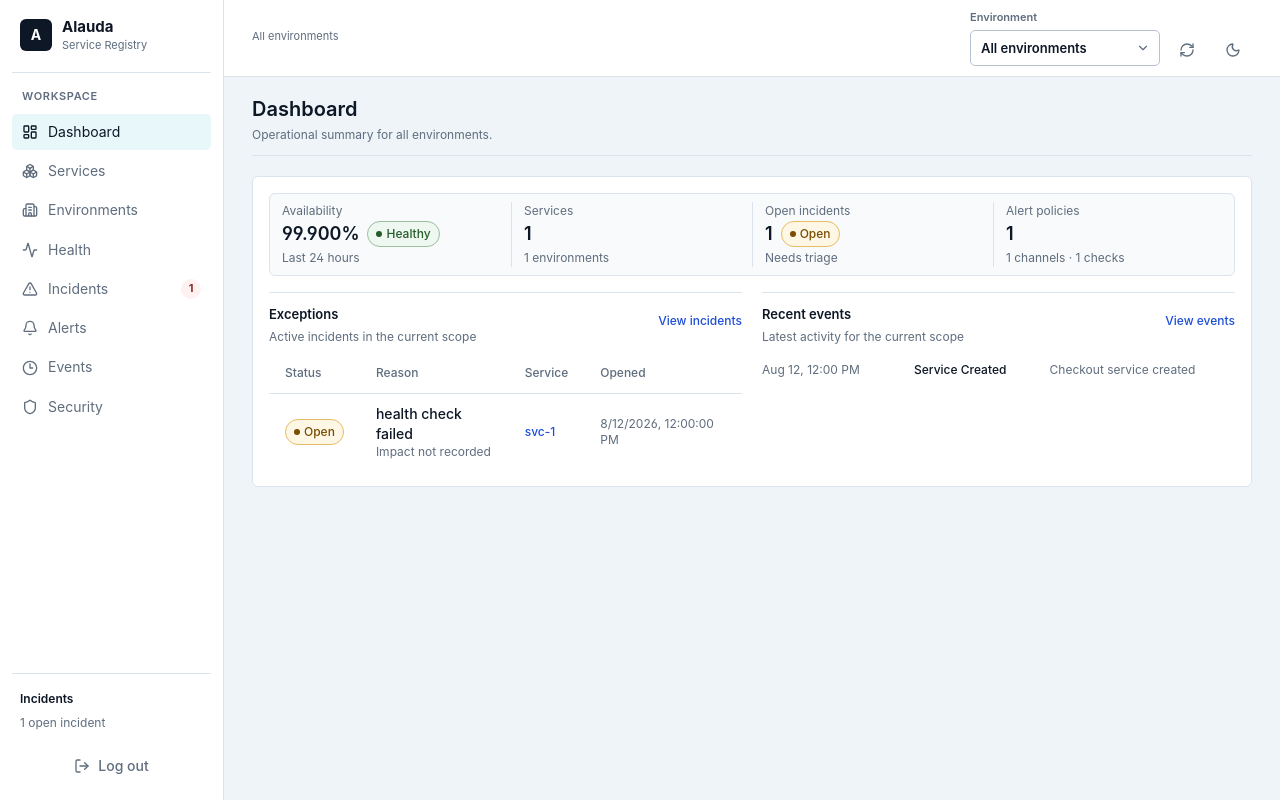
Test case: App › navigates incident and event workflows with mocked registry data
This screenshot has width=1280, height=800.
Expected: the text "Checkout service created" is shown, top-left (1050, 362), bottom-right (1195, 377)
Step 1. Click the button "Incidents 1" → (112, 289), box top-left (12, 271), bottom-right (211, 307)
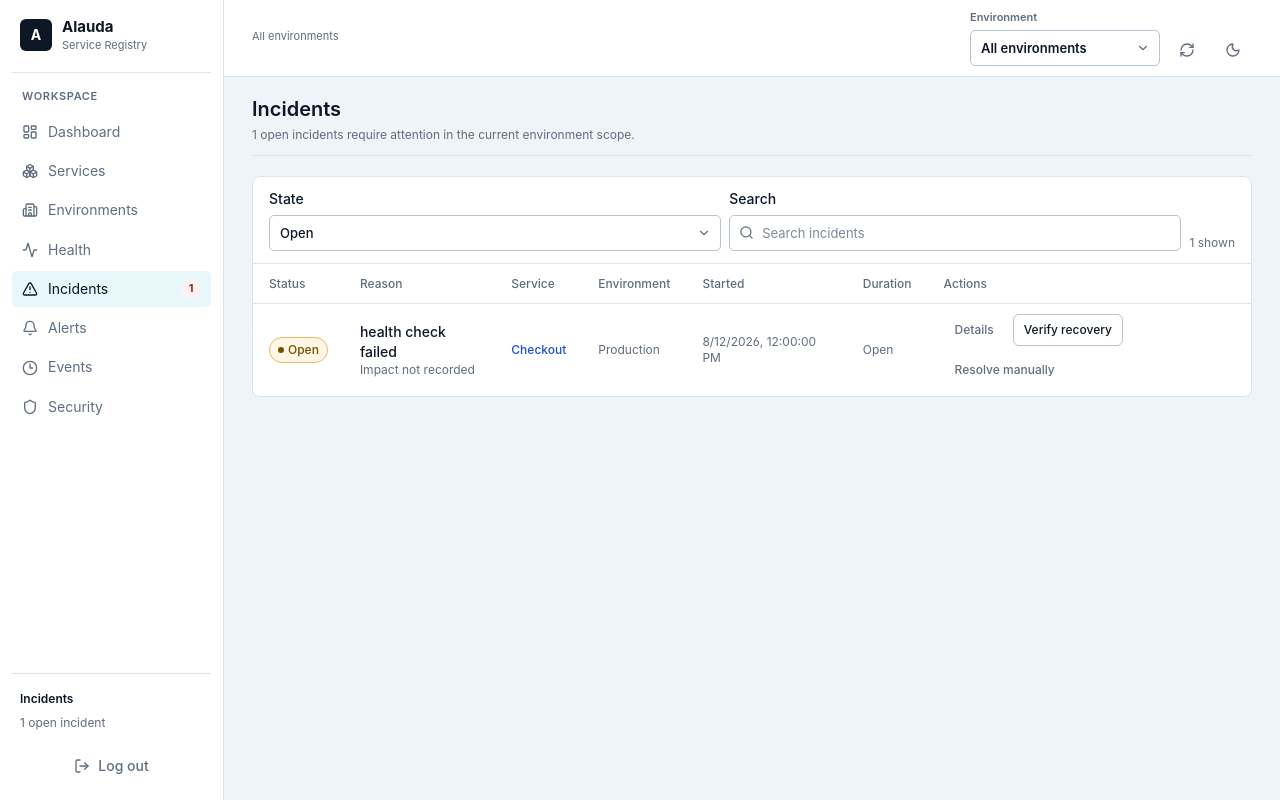
Expected: the text "health check failed" is shown, top-left (360, 323), bottom-right (446, 360)
Step 2. Select "Open" in the dropdown labelled "State" → (495, 233), box top-left (269, 215), bottom-right (721, 251)
Step 3. Click the button "Verify recovery" → (1068, 330), box top-left (1013, 314), bottom-right (1123, 346)
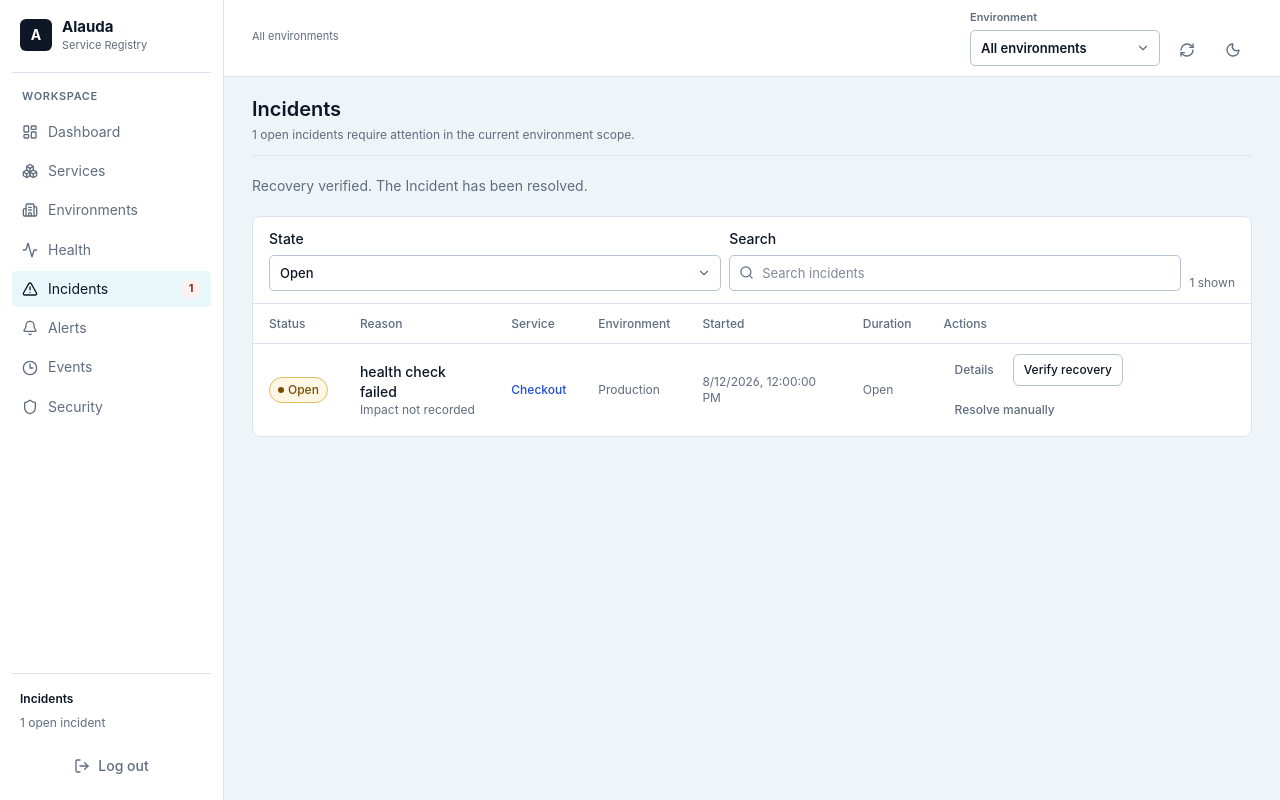
Expected: the text "Recovery verified. The Incident has been resolved." is shown, top-left (252, 177), bottom-right (588, 194)
Step 4. Click the button "Details" → (974, 370), box top-left (944, 354), bottom-right (1005, 386)
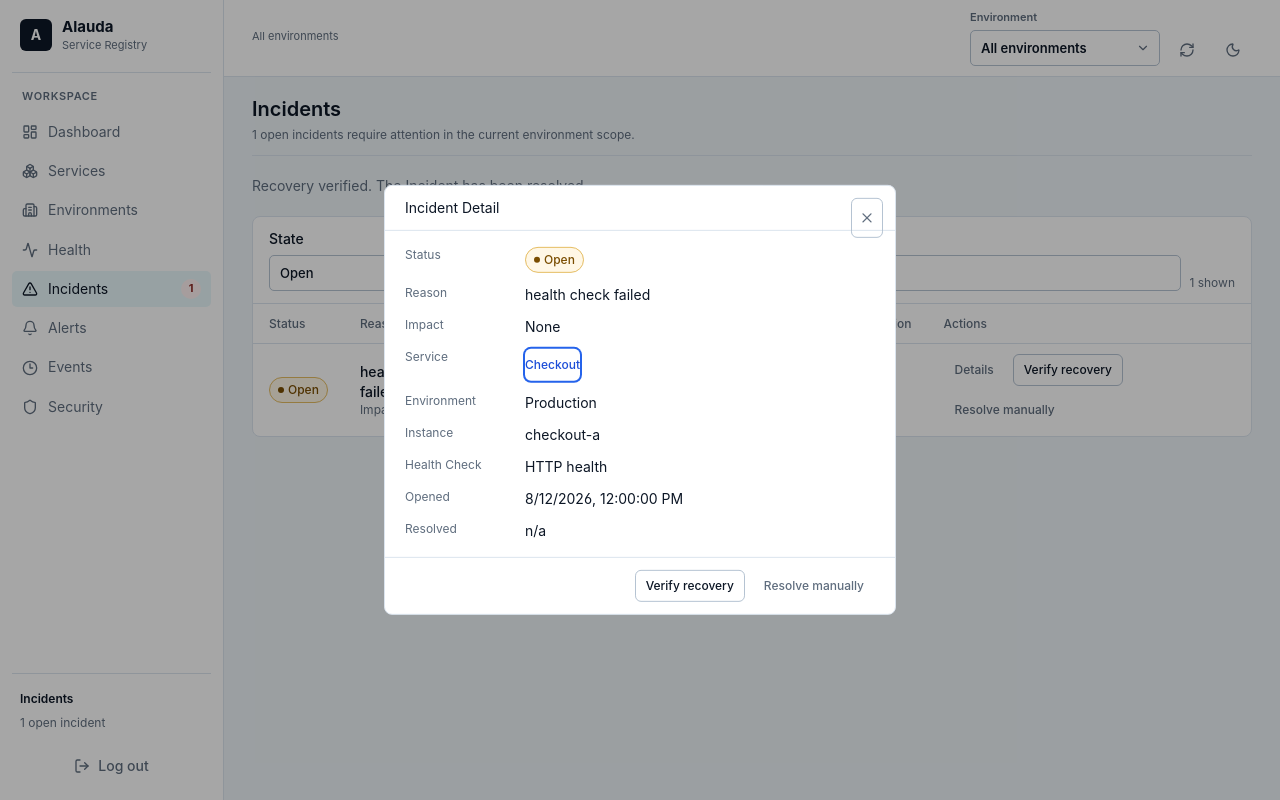
Expected: the dialog is shown, top-left (384, 185), bottom-right (896, 615)
Expected: the heading "Incident Detail" is shown, top-left (405, 199), bottom-right (500, 216)
Step 5. Click the button named "Close dialog" → (867, 218), box top-left (851, 198), bottom-right (883, 238)
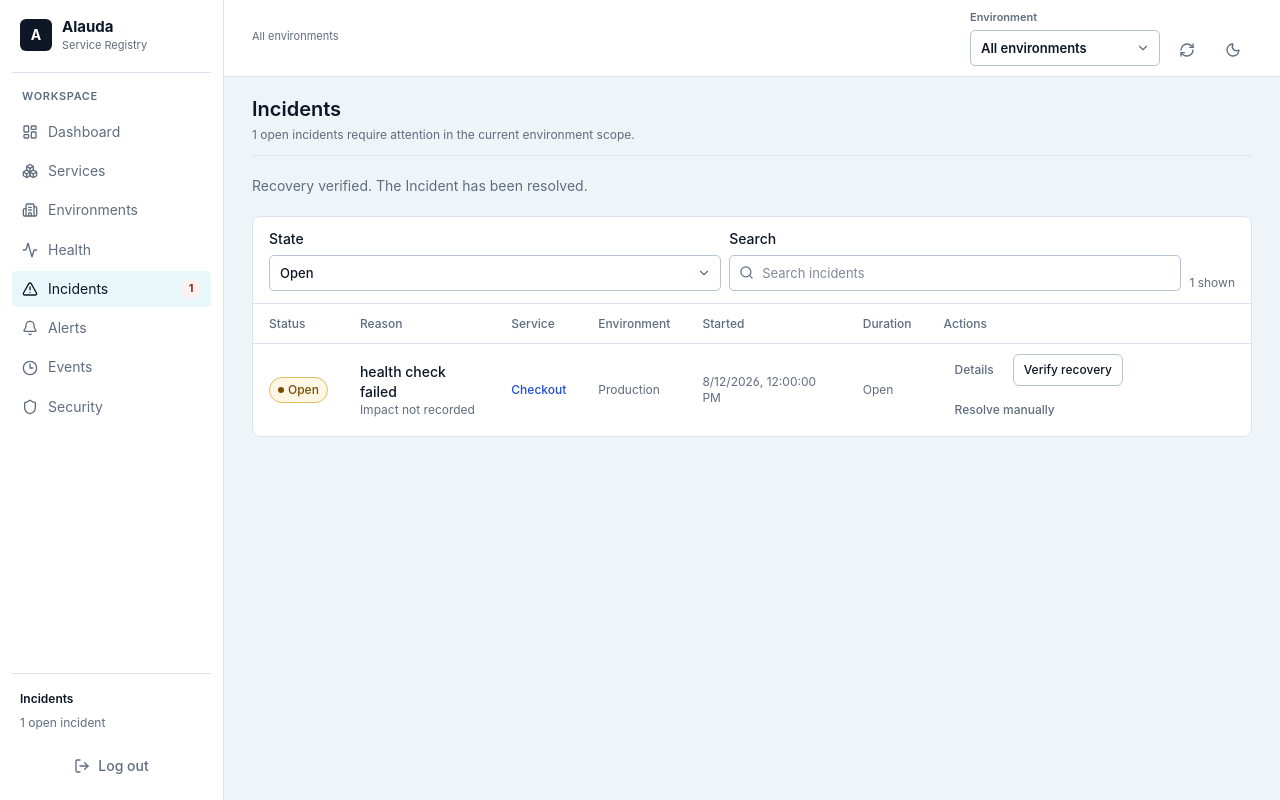
Step 6. Click the button "Events" → (112, 368), box top-left (12, 349), bottom-right (211, 386)
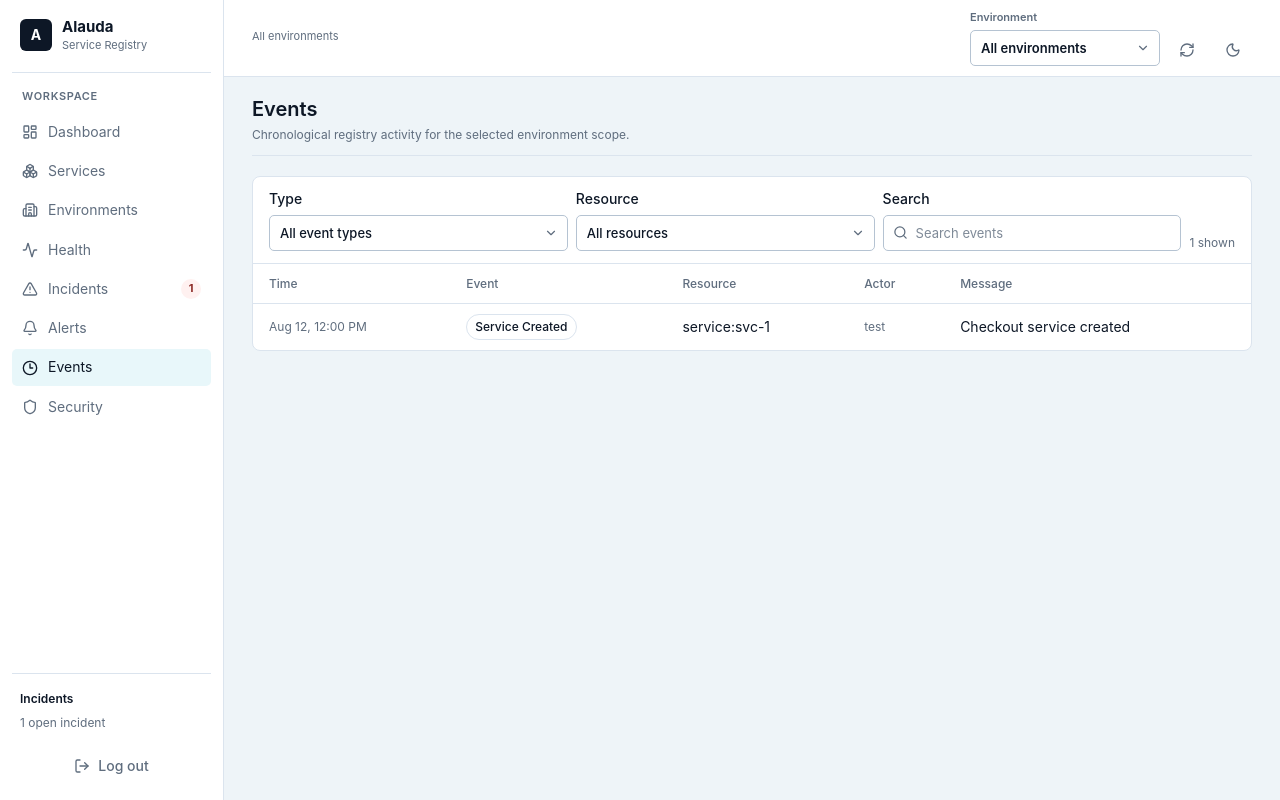
Expected: the text "Checkout service created" is shown, top-left (944, 304), bottom-right (1251, 350)
